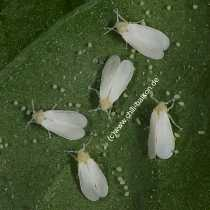whitefly: (101, 7, 170, 59), (88, 55, 135, 121), (62, 144, 110, 202), (24, 98, 87, 142), (146, 93, 181, 161)
